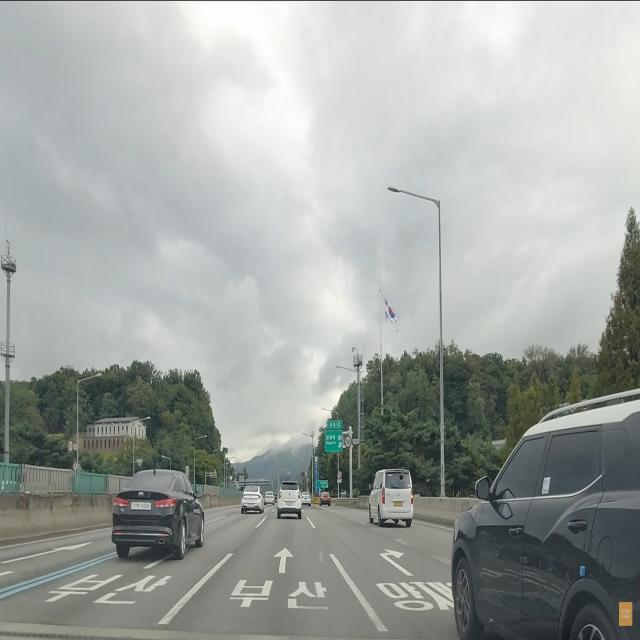forward: (205, 540, 345, 574)
right: (323, 542, 452, 591)
